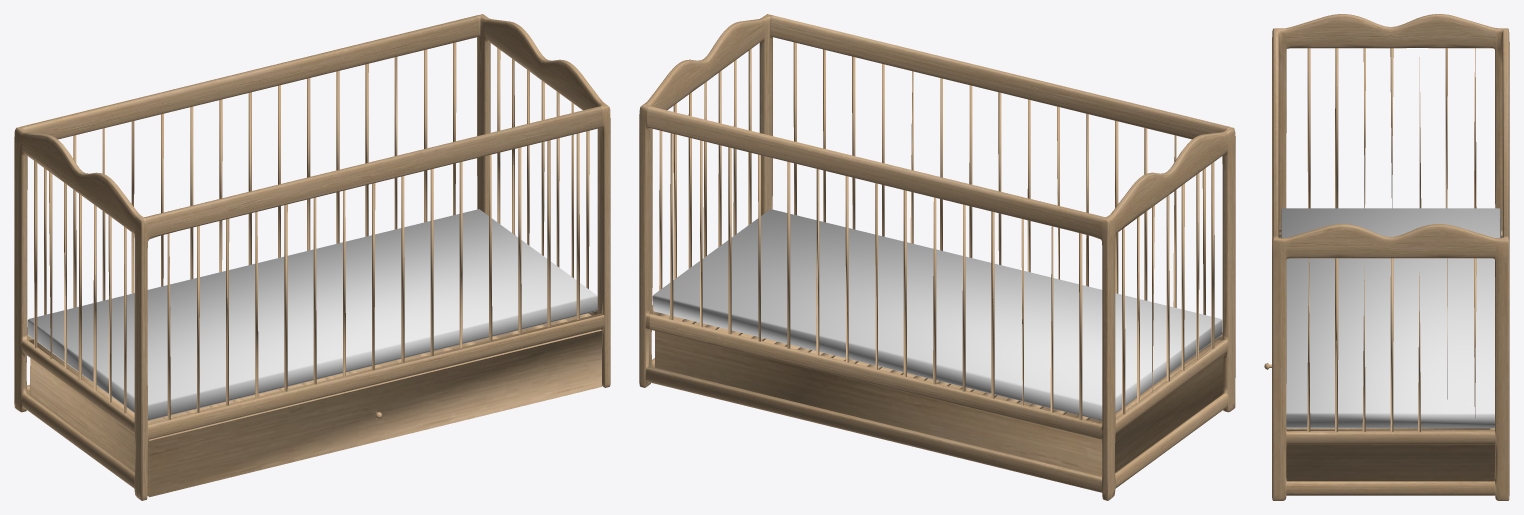
The model's file is crib.glb.
3 views of the same model, side by side, from view 1: azimuth 30°, elevation 25°; view 2: azimuth 150°, elevation 25°; view 3: azimuth 270°, elevation 25° (orthographic). The views are drawn at different scales.
Parts seen in each view (by area): view 1: gridend_Material.001_0, Mattress_Material.002_0; view 2: gridend_Material.001_0, Mattress_Material.002_0; view 3: gridend_Material.001_0, Mattress_Material.002_0.
Part boxes in pixels (x1,y1,x2,y2): gridend_Material.001_0: (14, 14, 610, 500); Mattress_Material.002_0: (27, 209, 597, 420); gridend_Material.001_0: (639, 14, 1235, 500); Mattress_Material.002_0: (652, 209, 1222, 420); gridend_Material.001_0: (1264, 14, 1509, 500); Mattress_Material.002_0: (1281, 208, 1500, 428).
Size of the model in its own units: 1.4 by 0.8436 by 0.6801.
2 materials, 1 textured.
